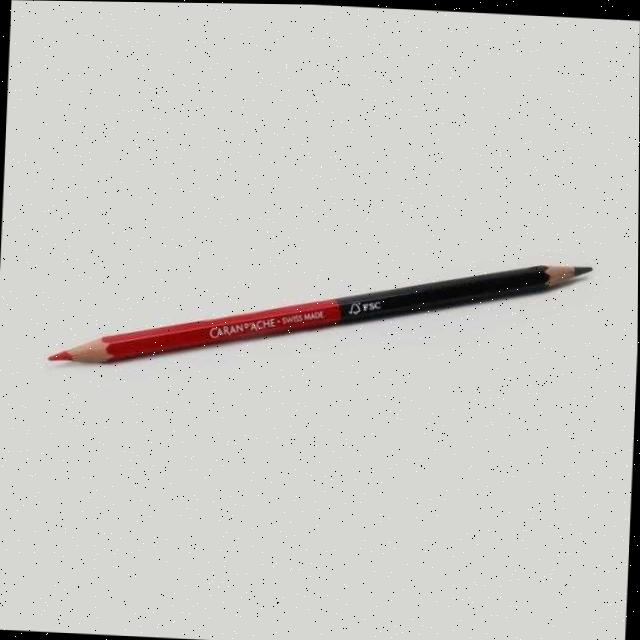pencil: (36, 239, 615, 389)
